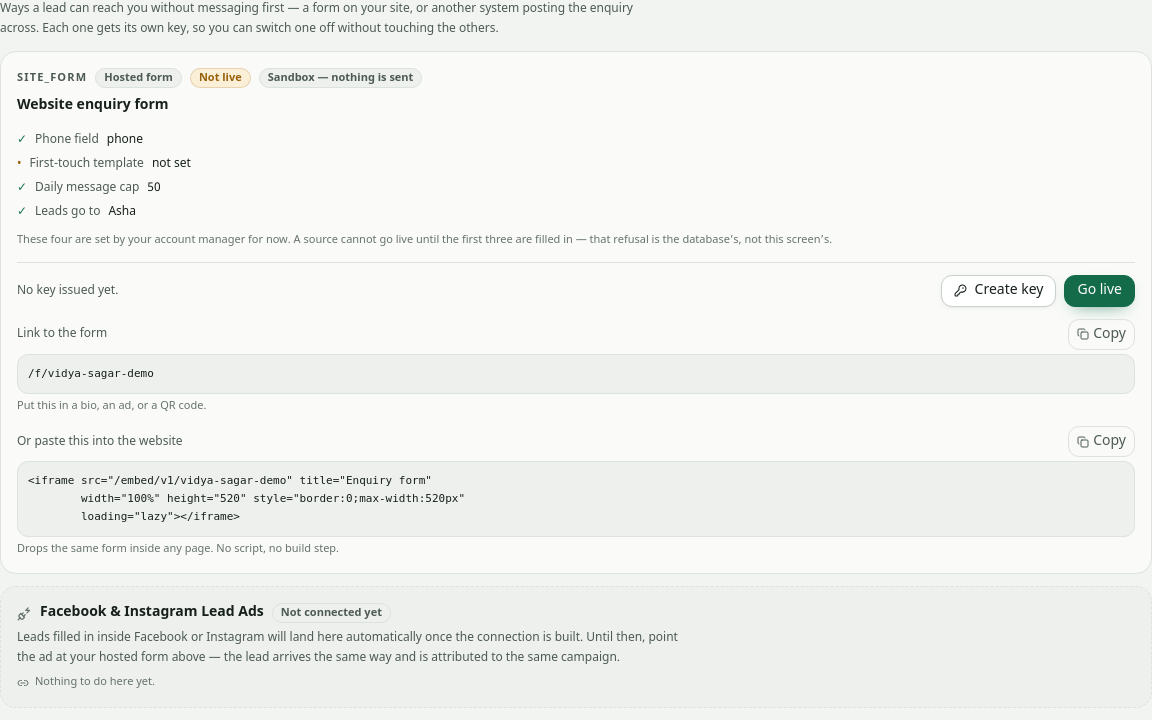
Test: Lead sources › reports the rotate refusal instead of pretending a key was issued
The width and height of the screenshot is (1152, 720).
Click the button "Create key": (998,291) 940,275 -> 1056,307
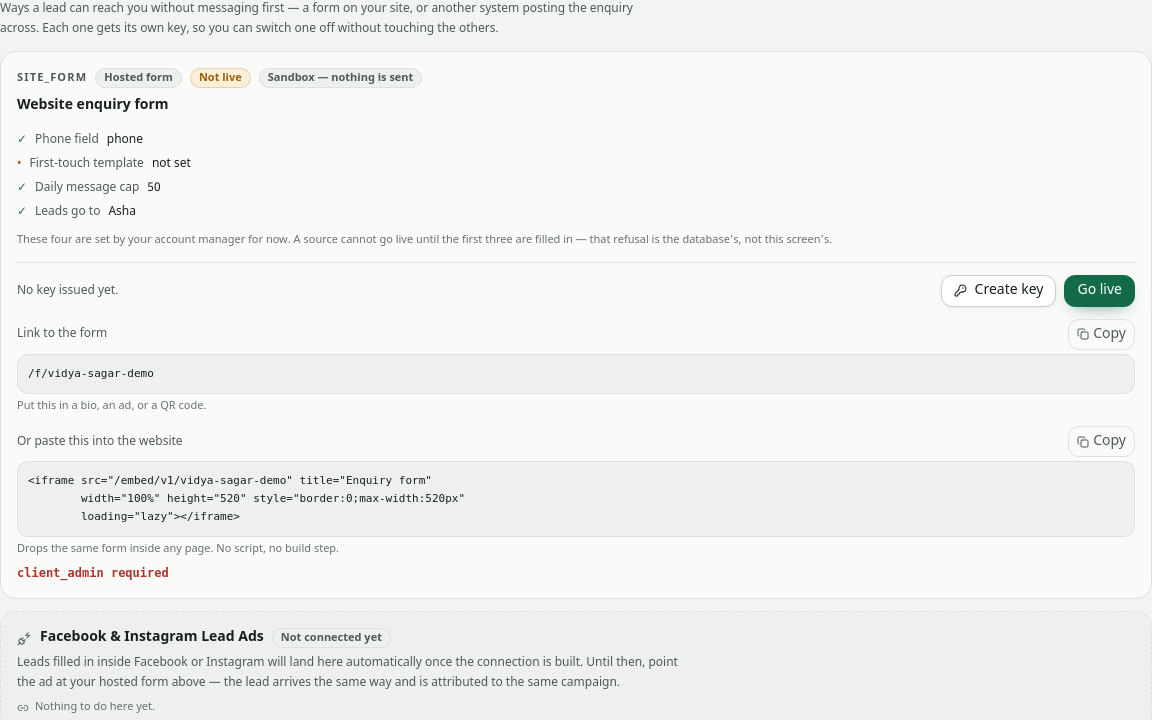
expect the message reads "client_admin required": met, box 17,566 -> 169,580
